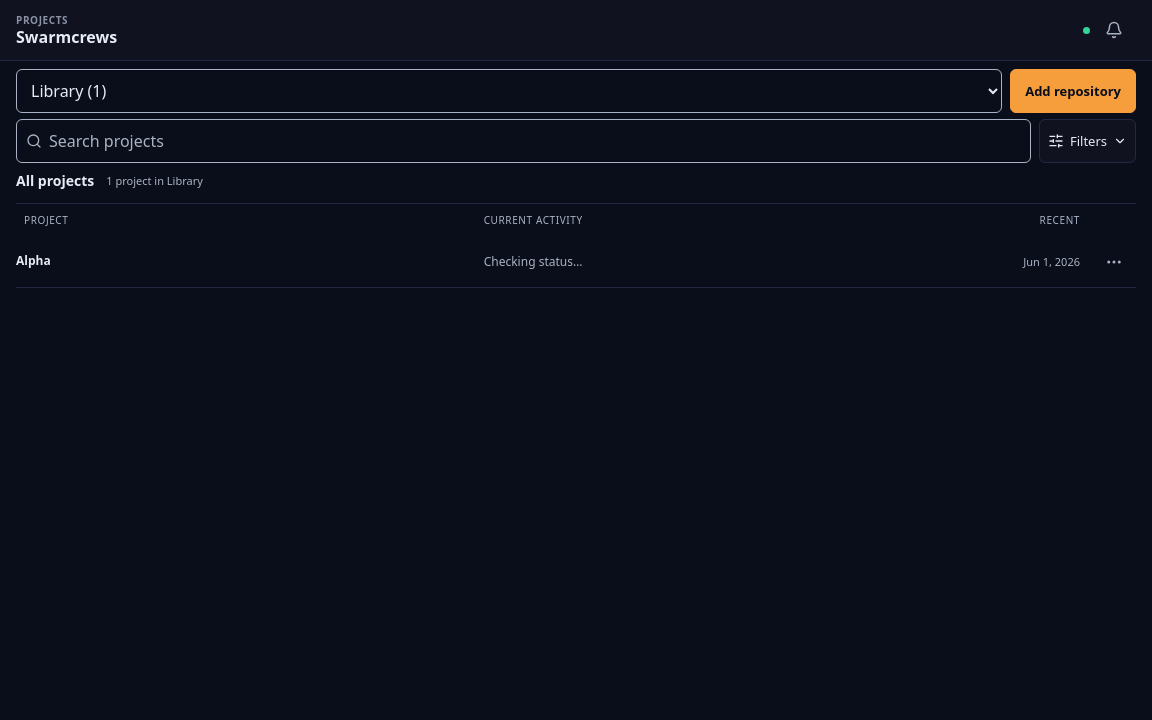
MobileApp › shows the project picker first and scopes to a project on selection
Expected: the element "projects" is shown, x1=15 y1=66 x2=1136 y2=288
Click the button "Alpha": {"x": 33, "y": 261} x1=16 y1=240 x2=464 y2=284
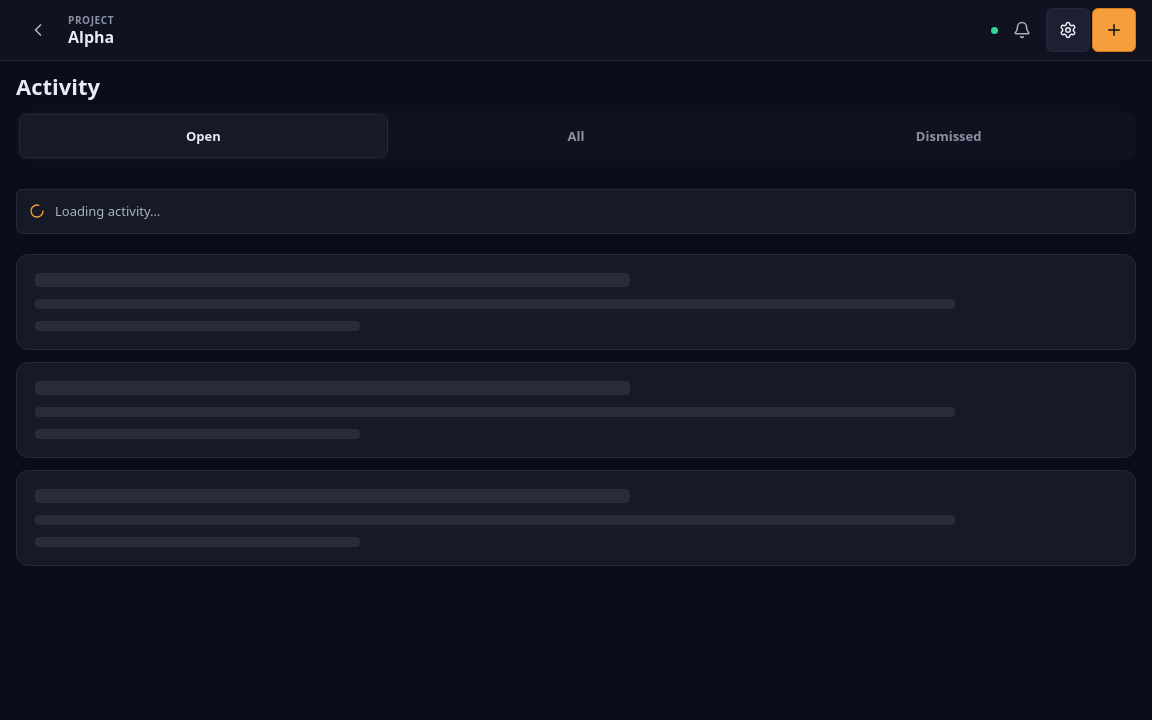
Result: the button named "Settings" is shown at x1=1046 y1=8 x2=1090 y2=52
Result: the button named "Back to projects" is shown
Result: the heading "Activity" is shown at x1=16 y1=73 x2=100 y2=99
Note: The back button returns to project selection.
Click the button named "Back to projects": {"x": 38, "y": 30} x1=16 y1=8 x2=60 y2=52
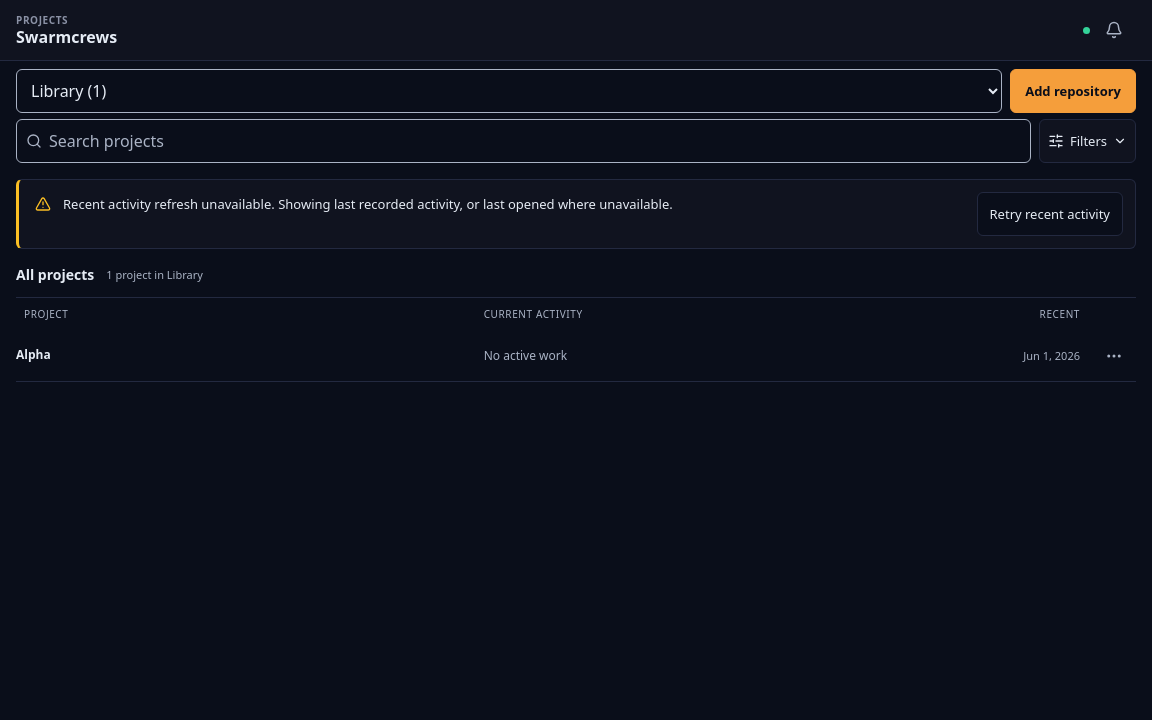
Result: the element named "Projects" is shown at x1=15 y1=66 x2=1136 y2=382
